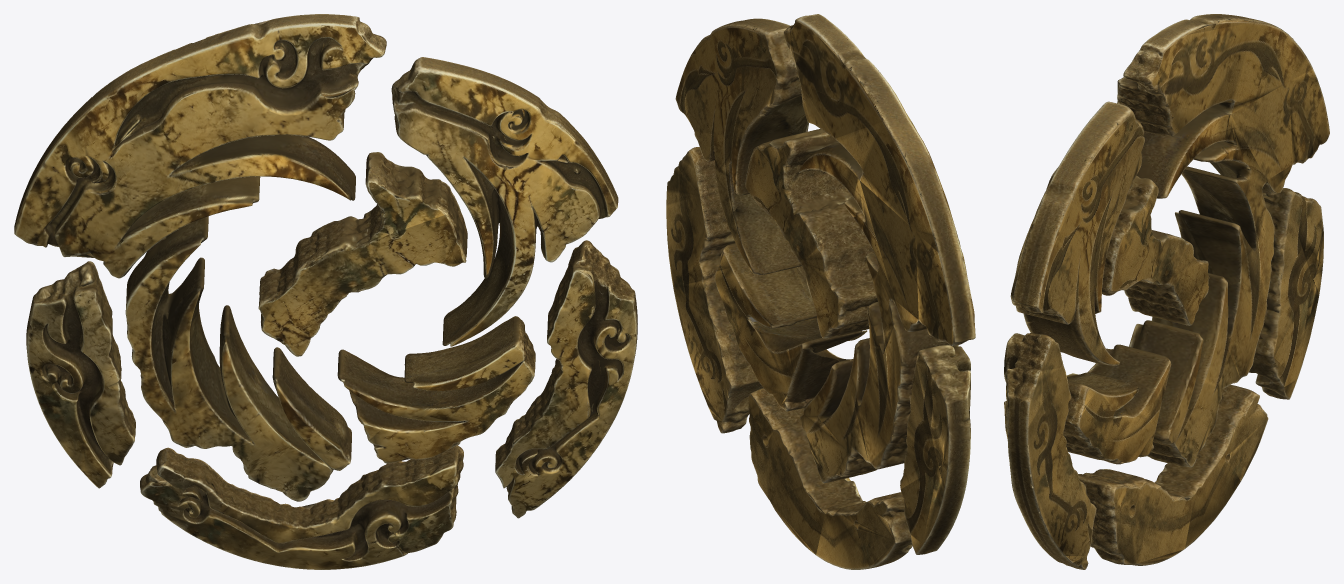
File: 14-sunbird-fragment.glb
The picture shows the model from 3 angles, left to right: view 1: azimuth 30°, elevation 25°; view 2: azimuth 150°, elevation 25°; view 3: azimuth 270°, elevation 25°; orthographic projection. The views are drawn at different scales.
Parts seen in each view (by area): view 1: Meshy_AI_Fractured_Golden_Reli_0817195200_texture; view 2: Meshy_AI_Fractured_Golden_Reli_0817195200_texture; view 3: Meshy_AI_Fractured_Golden_Reli_0817195200_texture.
Boxes of the visible parts, box(x1,y1,x2,y2) form: Meshy_AI_Fractured_Golden_Reli_0817195200_texture: box(14, 14, 637, 569); Meshy_AI_Fractured_Golden_Reli_0817195200_texture: box(666, 14, 975, 569); Meshy_AI_Fractured_Golden_Reli_0817195200_texture: box(1004, 14, 1329, 569).
Bounding box in the file's own units: 0.6023 × 0.6682 × 0.3816.
1 material, 1 textured.
